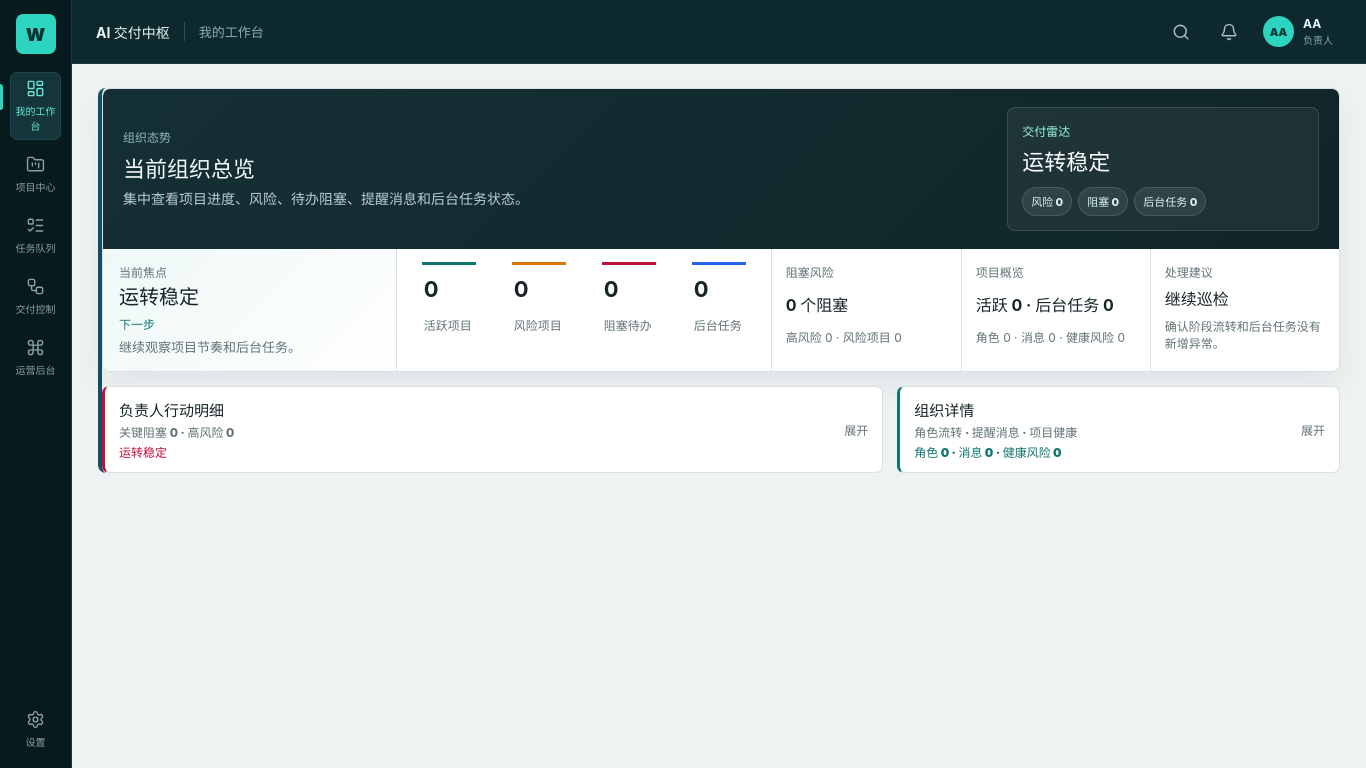
Test: App › uses a role-adaptive default workspace
The width and height of the screenshot is (1366, 768).
Check: the element named "负责人工作台" is shown, box [98,88,1340,473]
Click the button with aria-label "打开账户菜单" at [1300, 32], box [1257,10,1342,52]
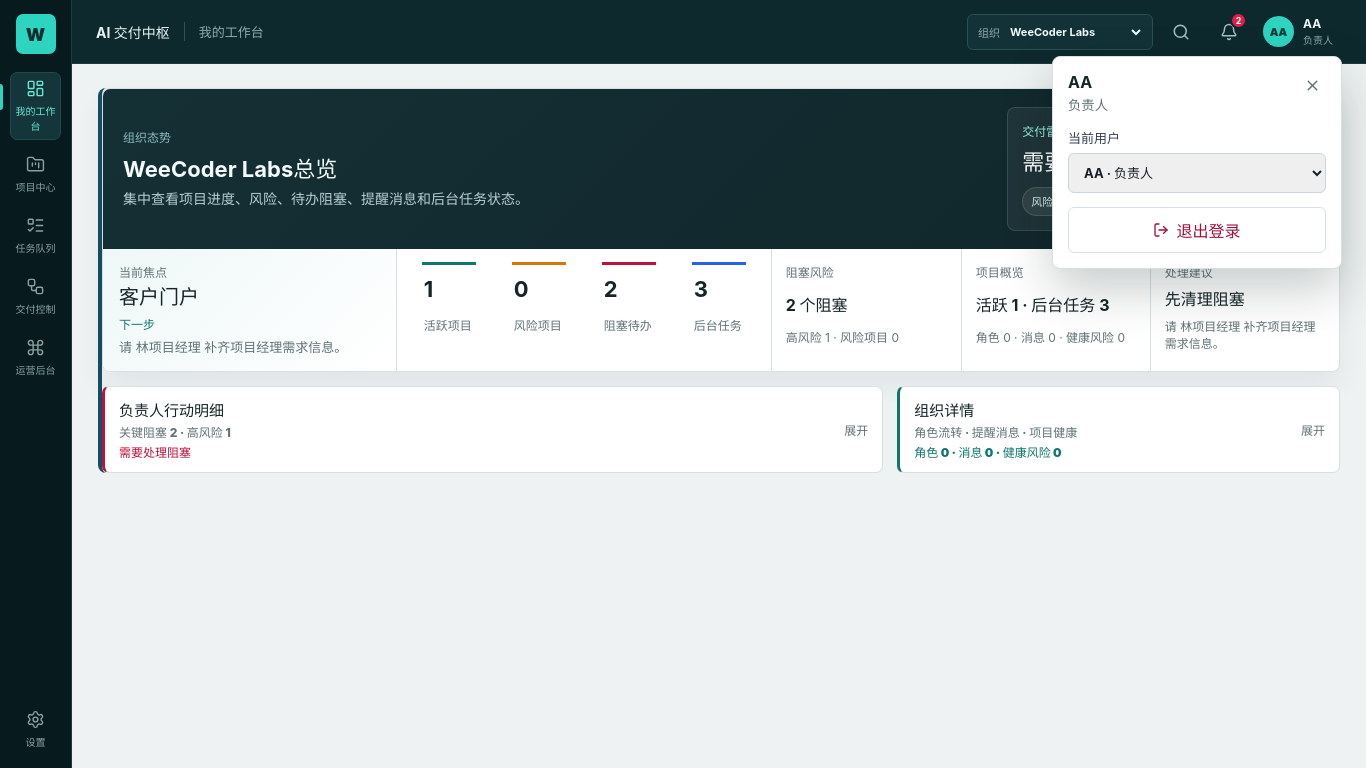
Select "王运维 · 运维" in the dropdown labelled "当前用户" at [1197, 173], box [1068,153,1326,193]
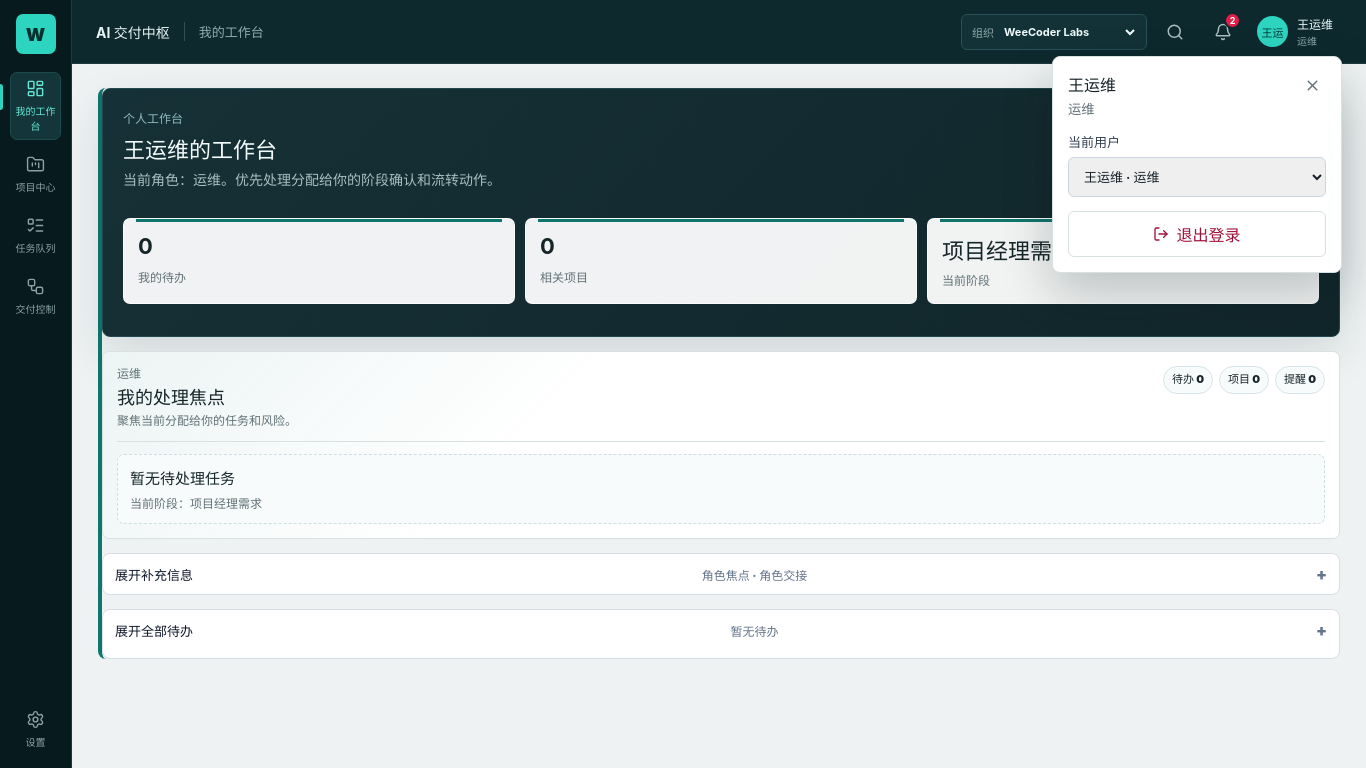
Check: the element labelled "个人工作台" is shown
